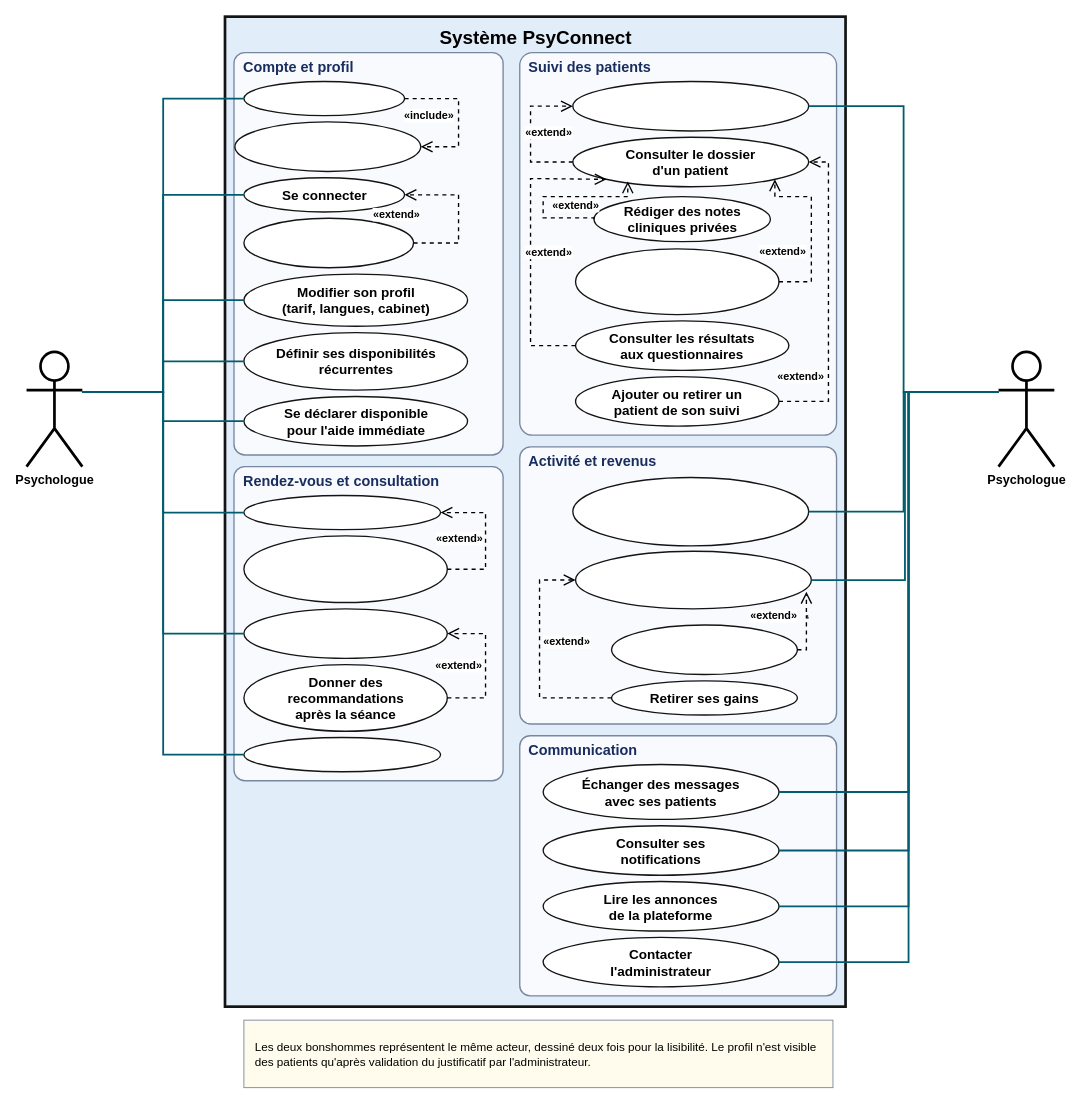
The diagram is 1081 pixels wide and 1103 high, and some of its shapes have lost their labels. Here are the shapes that lost their labels. From the top down, the centre of each, then its label:
point (324, 98): S'inscrire
point (690, 105): Consulter la liste de ses patients
point (327, 146): Joindre son justificatif de licence
point (328, 242): Réinitialiser son mot de passe
point (676, 281): Envoyer un questionnaire PHQ-9 / GAD-7
point (342, 512): Consulter son agenda
point (690, 511): Consulter ses statistiques d'activité
point (345, 569): Accepter ou refuser une demande (2 h avant au plus)
point (693, 579): Consulter son portefeuille et ses revenus
point (345, 633): Mener la consultation vidéo
point (704, 649): Consulter l'historique des transactions
point (342, 754): Consulter les avis reçus
